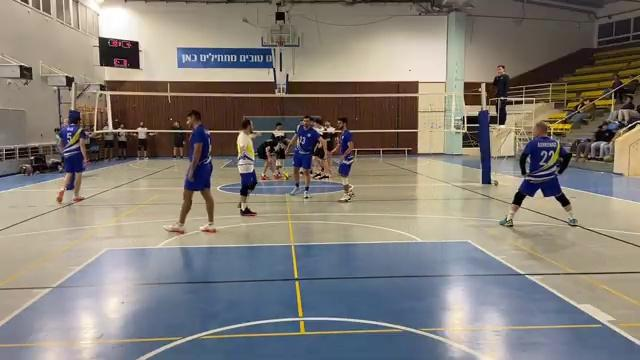ball: (281, 172, 293, 182)
